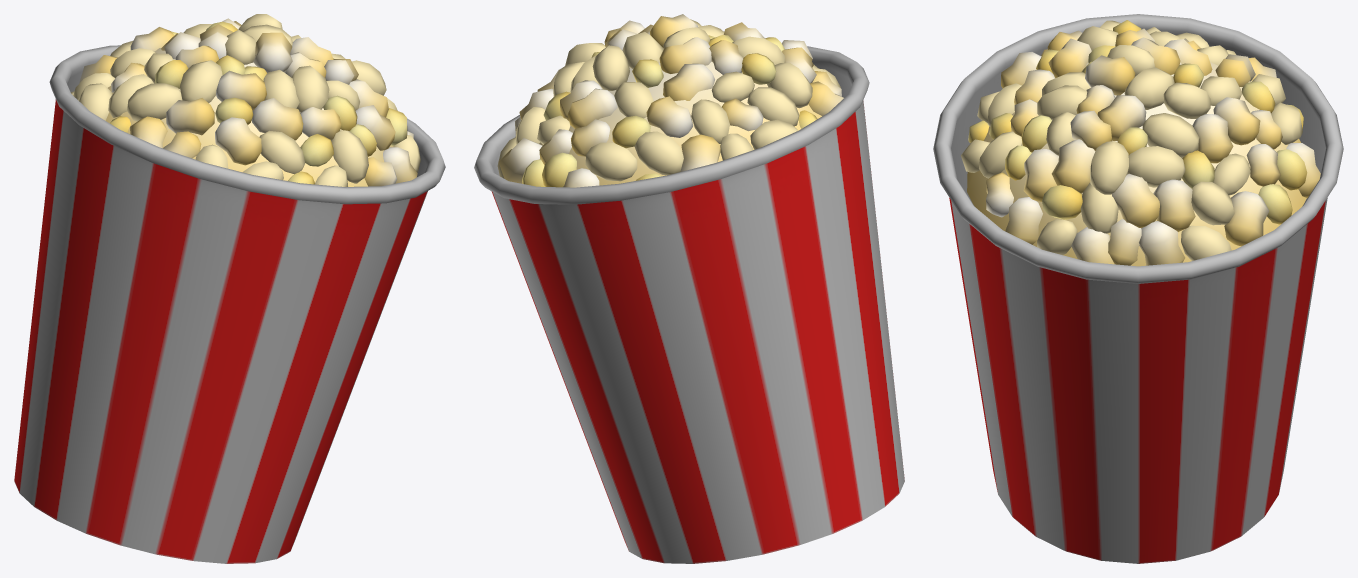
File: item-03.glb
The picture shows the model from 3 angles, left to right: view 1: azimuth 30°, elevation 25°; view 2: azimuth 150°, elevation 25°; view 3: azimuth 270°, elevation 25°; orthographic projection.
Visible parts, largest first — view 1: Popcorn_Full; view 2: Popcorn_Full; view 3: Popcorn_Full.
Part boxes in pixels (x1,y1,x2,y2): Popcorn_Full: (14,14,445,563); Popcorn_Full: (474,14,904,563); Popcorn_Full: (933,14,1343,563).
Size of the model in its own units: 0.7267 by 0.8958 by 0.667.
Materials: 1 (1 with a texture image).
